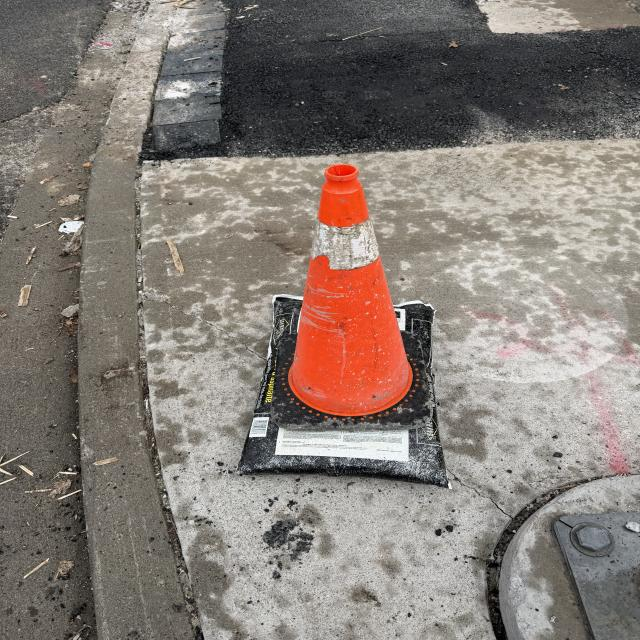Traffic Cone: (264, 163, 430, 423)
